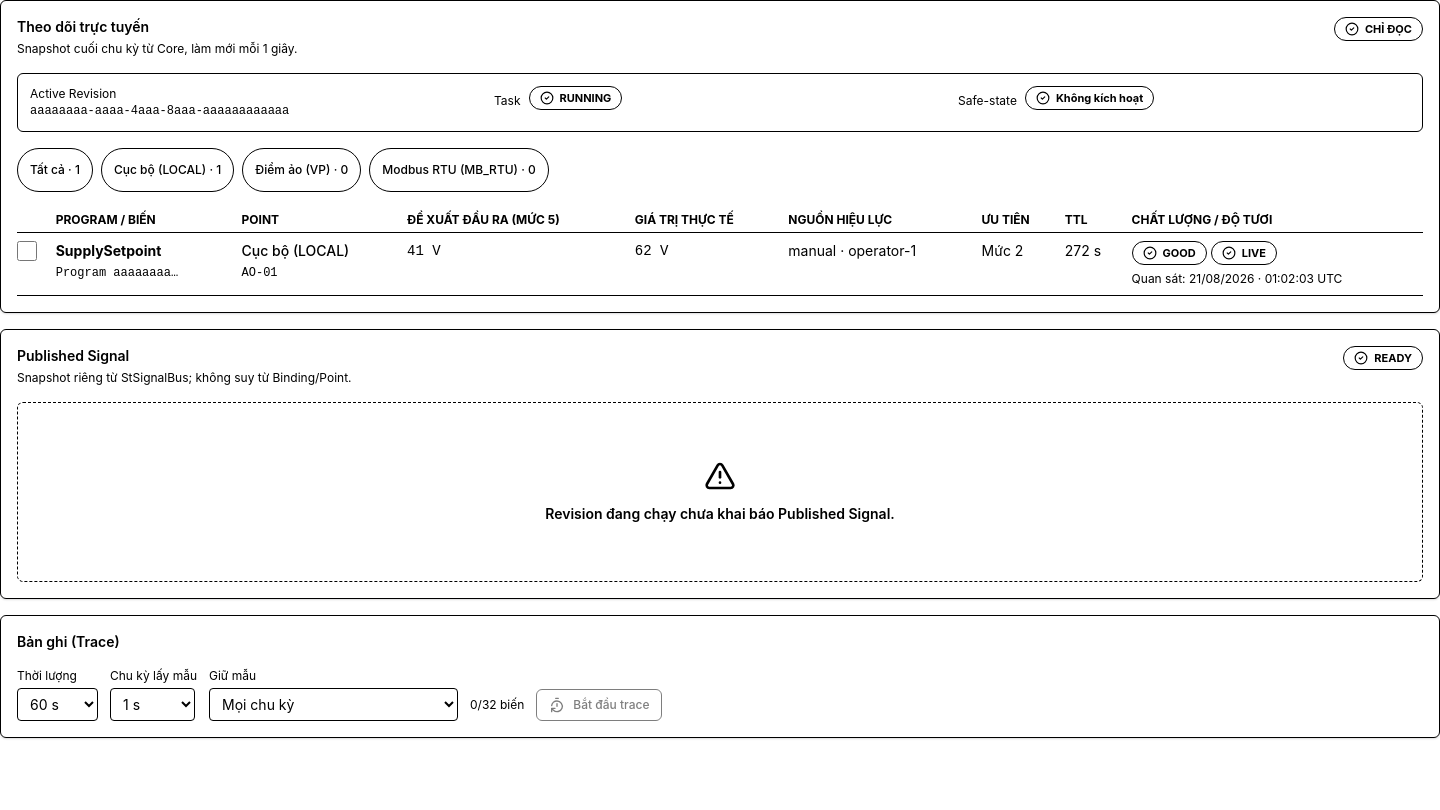
it: WatchTab — T59-504 › trace chọn được mẫu 10 ms và hiện chu kỳ lấy mẫu hiệu lực khi khác yêu cầu
The width and height of the screenshot is (1440, 810).
Select "10 ms" in the dropdown labelled "Chu kỳ lấy mẫu": coordinates (152, 704) x1=110 y1=688 x2=195 y2=721
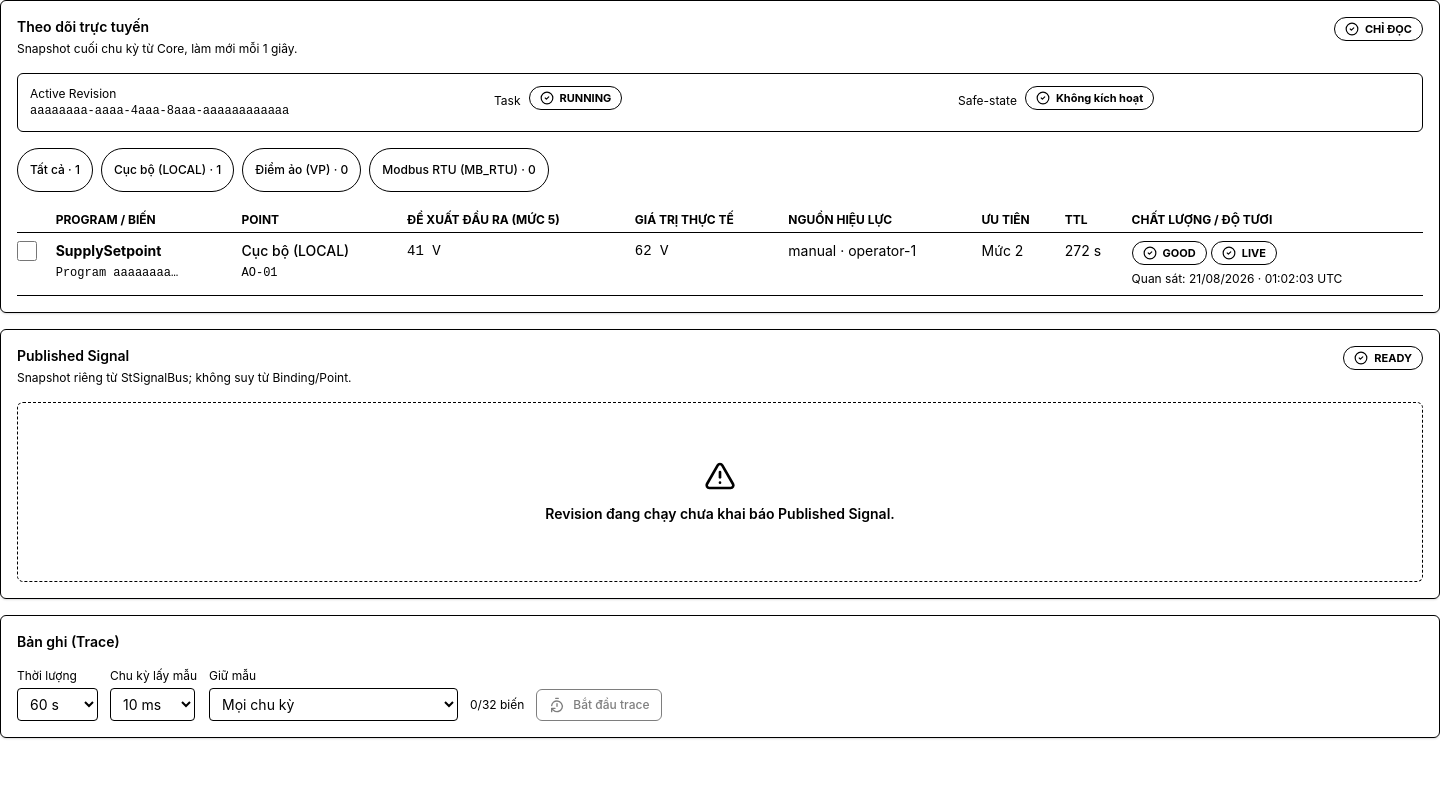
Click the checkbox named "Trace SupplySetpoint": coordinates (27, 251) x1=17 y1=241 x2=37 y2=261
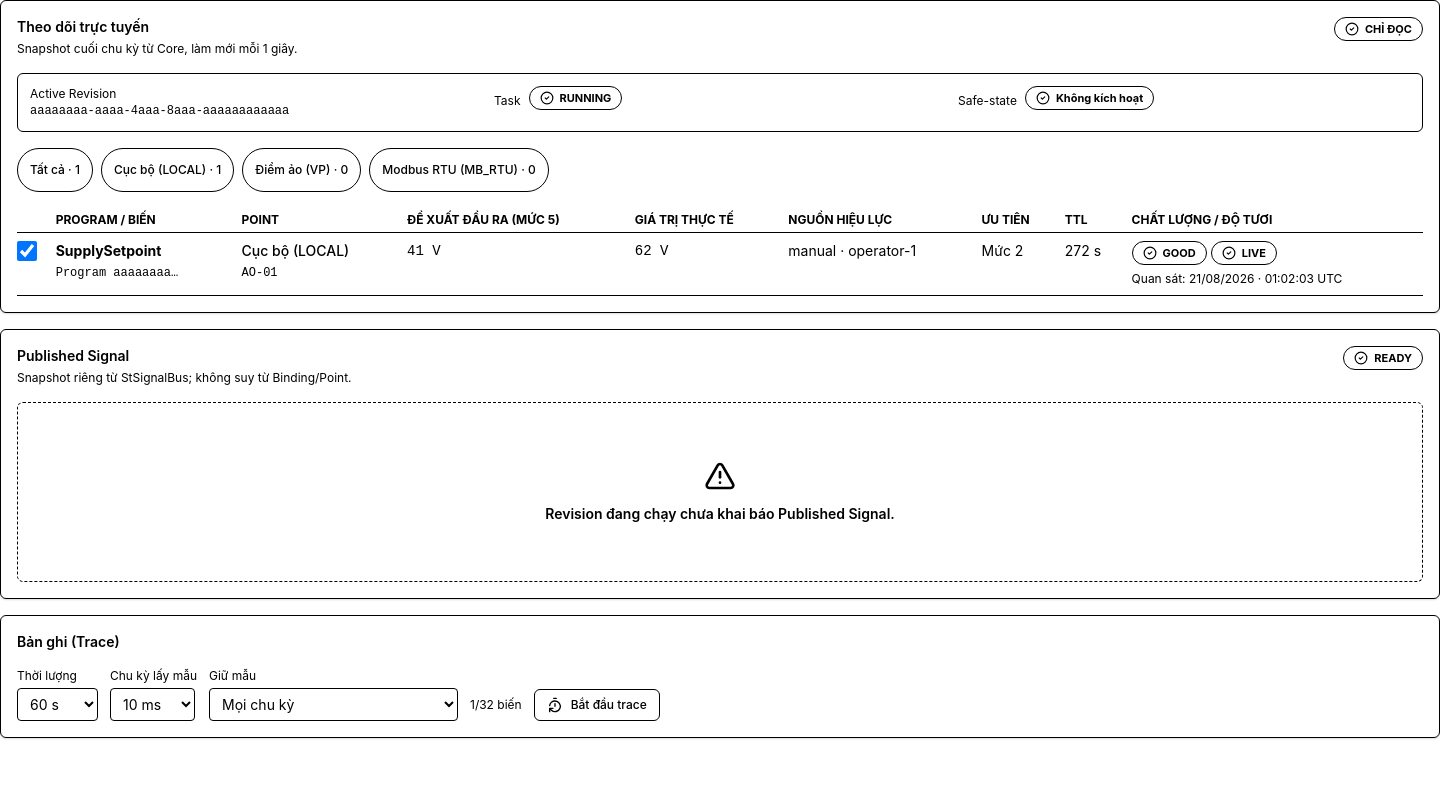
Click the button "Bắt đầu trace": coordinates (597, 705) x1=534 y1=689 x2=660 y2=721
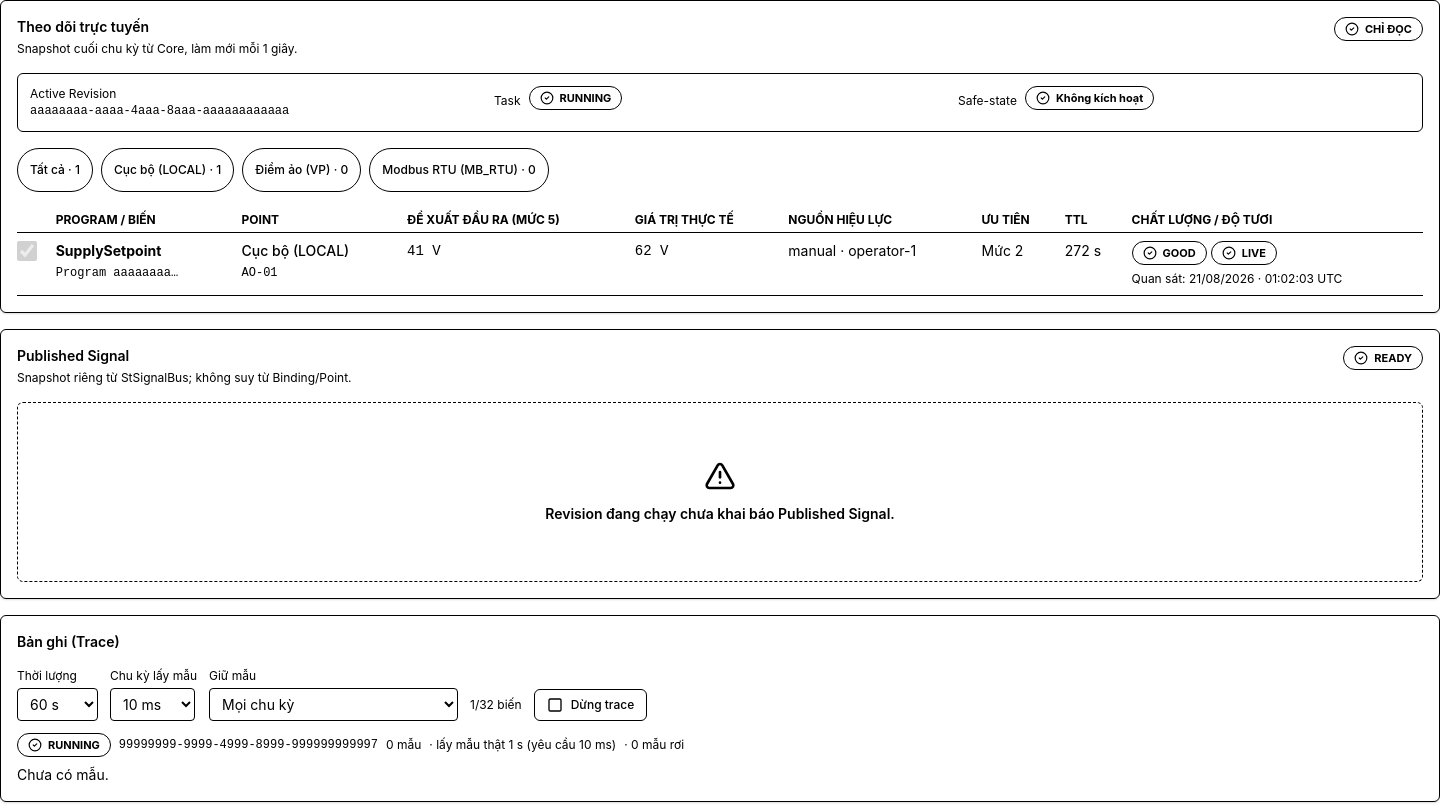
Check: the text with test id "trace-effective-sample-period" shows "lấy mẫu thật 1 s (yêu cầu 10 ms)", box x1=429 y1=737 x2=616 y2=753
